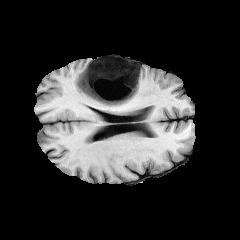glioma: (73, 57, 141, 111)
